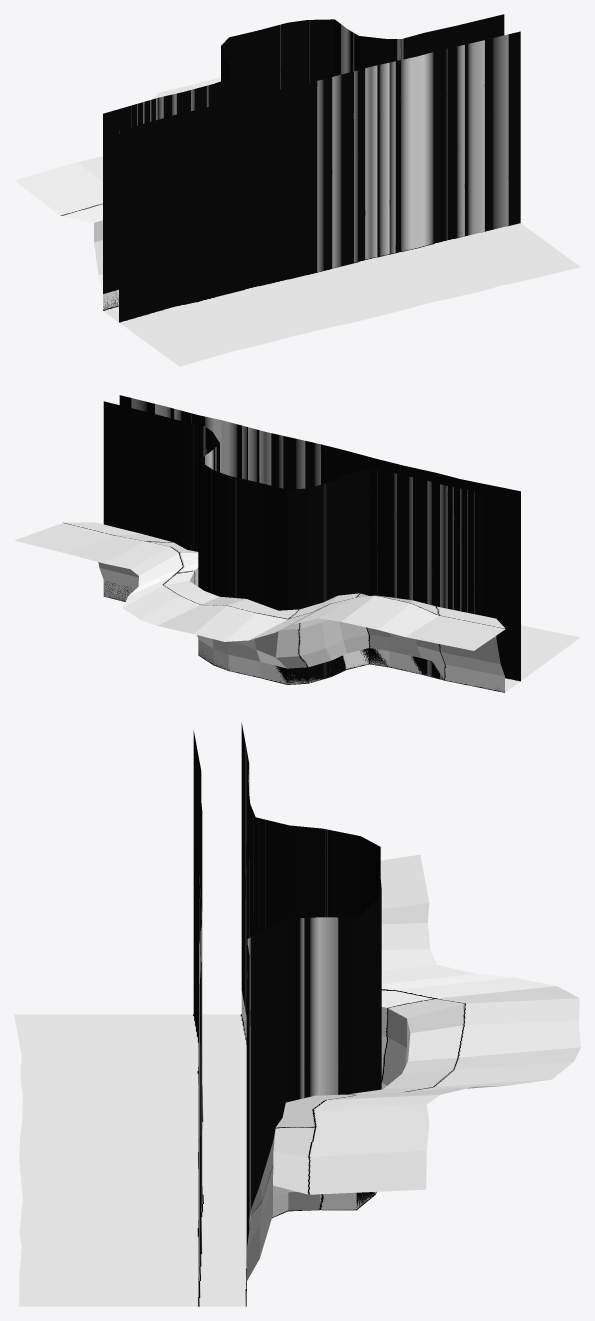
The model's file is Area10Mesh.fbx.
3 views of the same model, one above another, from view 1: azimuth 30°, elevation 25°; view 2: azimuth 150°, elevation 25°; view 3: azimuth 270°, elevation 25° (orthographic). The views are drawn at different scales.
Visible parts, largest first — view 1: Wall1, Terrain, Wall2; view 2: Wall2, Terrain, Wall1; view 3: Terrain, Wall2, Traversible, Wall1.
Boxes of the visible parts, bbox=[...] form: Wall1: bbox=[119, 31, 520, 322]; Terrain: bbox=[14, 77, 580, 366]; Wall2: bbox=[103, 14, 504, 309]; Wall2: bbox=[103, 401, 504, 691]; Terrain: bbox=[14, 522, 580, 692]; Wall1: bbox=[119, 395, 520, 680]; Terrain: bbox=[14, 854, 580, 1306]; Wall2: bbox=[241, 723, 381, 1290]; Traversible: bbox=[198, 1014, 246, 1306]; Wall1: bbox=[193, 730, 202, 1297].
Size of the model in its own units: 17850 by 7274 by 12765.
1 material, 1 textured.
